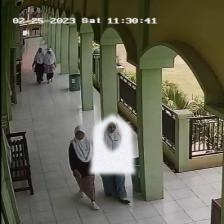Mukena: (90, 114, 134, 173)
